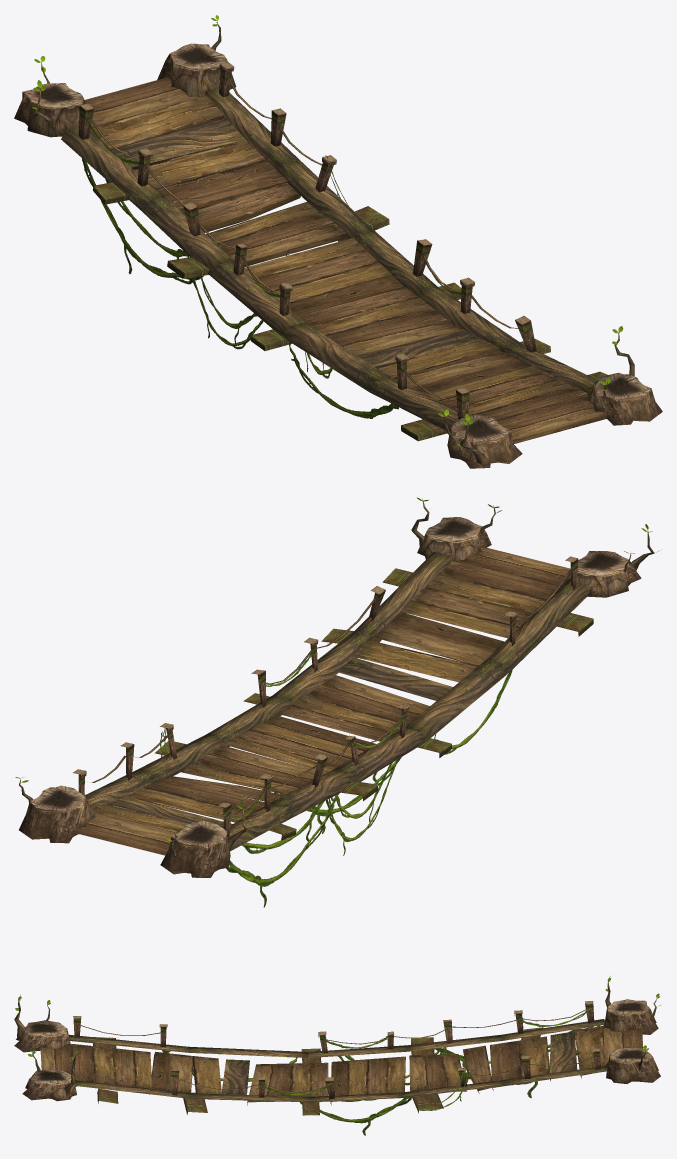
The model's file is S_Build_Village035_1060_1.fbx.
The picture shows the model from 3 angles, top to bottom: view 1: azimuth 30°, elevation 25°; view 2: azimuth 150°, elevation 25°; view 3: azimuth 270°, elevation 25°; orthographic projection. The views are drawn at different scales.
Parts seen in each view (by area): view 1: S_Build_Village035_1060_1; view 2: S_Build_Village035_1060_1; view 3: S_Build_Village035_1060_1.
Boxes of the visible parts, left/top/right/bottom form: S_Build_Village035_1060_1: left=14, top=15, right=662, bottom=468; S_Build_Village035_1060_1: left=15, top=497, right=659, bottom=907; S_Build_Village035_1060_1: left=14, top=976, right=660, bottom=1135.
Bounding box in the file's own units: 725 × 583 × 2619.
Materials: 3 (3 with a texture image).
